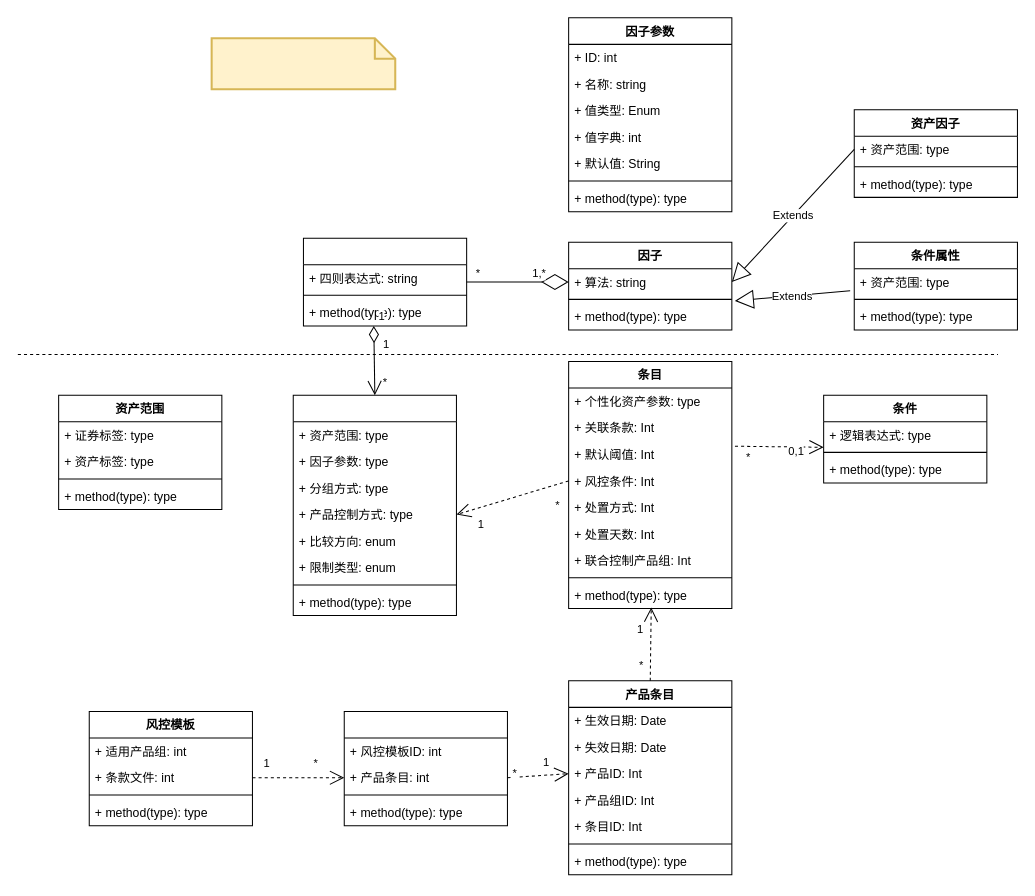
This 1035x896 diagram has some shape labels left out. The box of each missing label's shape, as (x1, y1, x2, y2) in pixels:
公式: (302, 237, 467, 326)
持仓、合约、产品 因子+资产范围+条件属性 统计维度: (210, 37, 396, 90)
模板条目: (343, 710, 507, 826)
规则: (292, 394, 456, 616)
